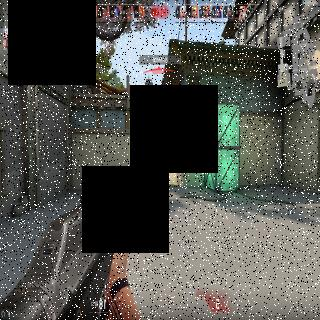ENEMY-BODY: (159, 156, 161, 170)
ENEMY-HEAD: (160, 158, 161, 160)
